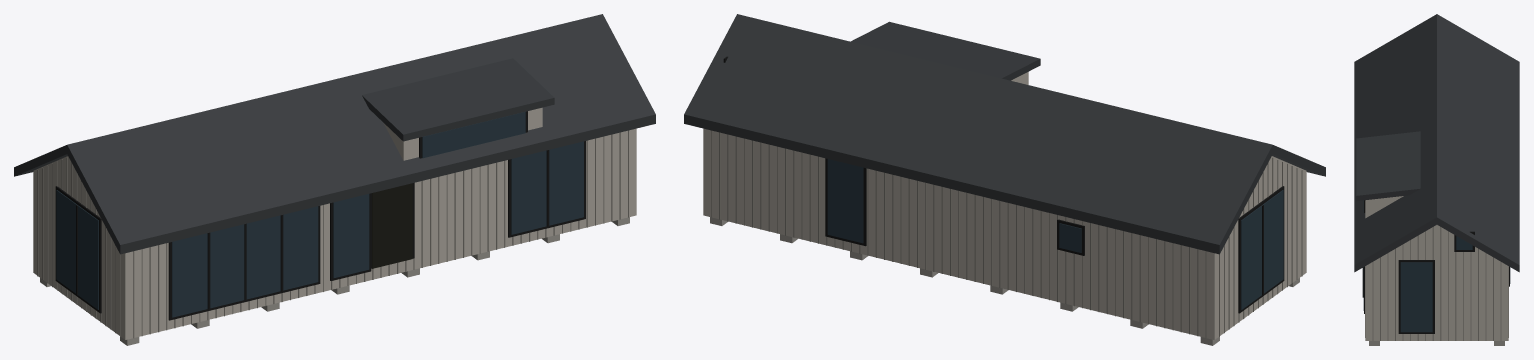
File: hus-r4.glb
3 views of the same model, side by side, from view 1: azimuth 30°, elevation 25°; view 2: azimuth 150°, elevation 25°; view 3: azimuth 270°, elevation 25° (orthographic). The views are drawn at different scales.
Visible parts, largest first — view 1: del17, del16, del179, del177, del188, del197, del186, del184, del191, del178, del176, del196 (+1 smaller); view 2: del17, del16, del177, del197, del202, del196, del201, del200; view 3: del17, del16, del177, del195, del194, del176, del157, del149, del153, del145, del171, del193 (+2 smaller).
Boxes of the visible parts, x1=… form: del17: x1=14, y1=14, x2=655, y2=254; del16: x1=33, y1=128, x2=636, y2=339; del179: x1=172, y1=206, x2=318, y2=317; del177: x1=362, y1=58, x2=554, y2=141; del188: x1=511, y1=141, x2=583, y2=234; del197: x1=56, y1=190, x2=98, y2=309; del186: x1=372, y1=183, x2=412, y2=268; del184: x1=333, y1=194, x2=369, y2=277; del191: x1=422, y1=111, x2=525, y2=158; del178: x1=168, y1=206, x2=320, y2=320; del176: x1=383, y1=107, x2=542, y2=160; del196: x1=55, y1=186, x2=101, y2=313; del17: x1=684, y1=14, x2=1325, y2=254; del16: x1=703, y1=128, x2=1306, y2=339; del177: x1=851, y1=21, x2=1040, y2=80; del197: x1=1241, y1=190, x2=1283, y2=309; del202: x1=827, y1=159, x2=863, y2=243; del196: x1=1238, y1=186, x2=1284, y2=313; del201: x1=825, y1=158, x2=866, y2=246; del200: x1=1059, y1=223, x2=1081, y2=252; del17: x1=1354, y1=14, x2=1519, y2=272; del16: x1=1365, y1=225, x2=1508, y2=340; del177: x1=1356, y1=131, x2=1420, y2=201; del195: x1=1400, y1=262, x2=1432, y2=332; del194: x1=1398, y1=260, x2=1434, y2=333; del176: x1=1365, y1=196, x2=1403, y2=218; del157: x1=1440, y1=227, x2=1441, y2=340; del149: x1=1470, y1=252, x2=1471, y2=340; del153: x1=1455, y1=252, x2=1456, y2=340; del145: x1=1485, y1=253, x2=1486, y2=340; del171: x1=1387, y1=253, x2=1388, y2=340; del193: x1=1456, y1=236, x2=1472, y2=249.
Size of the model in its own units: 13.1 by 4.05 by 4.5.
